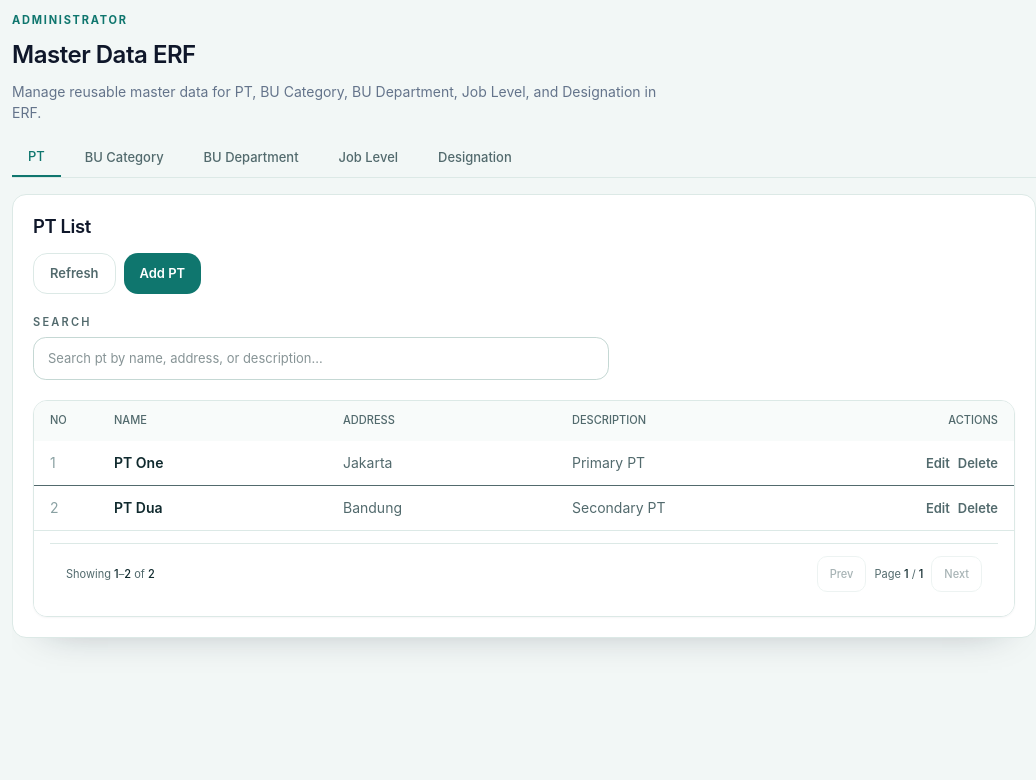
Scenario: admin pages unit › filters master data rows by the active tab search query
The image size is (1036, 780).
Type "bandung" into the search field labelled "Search". click: {"x": 321, "y": 359}
box: [33,337,609,380]
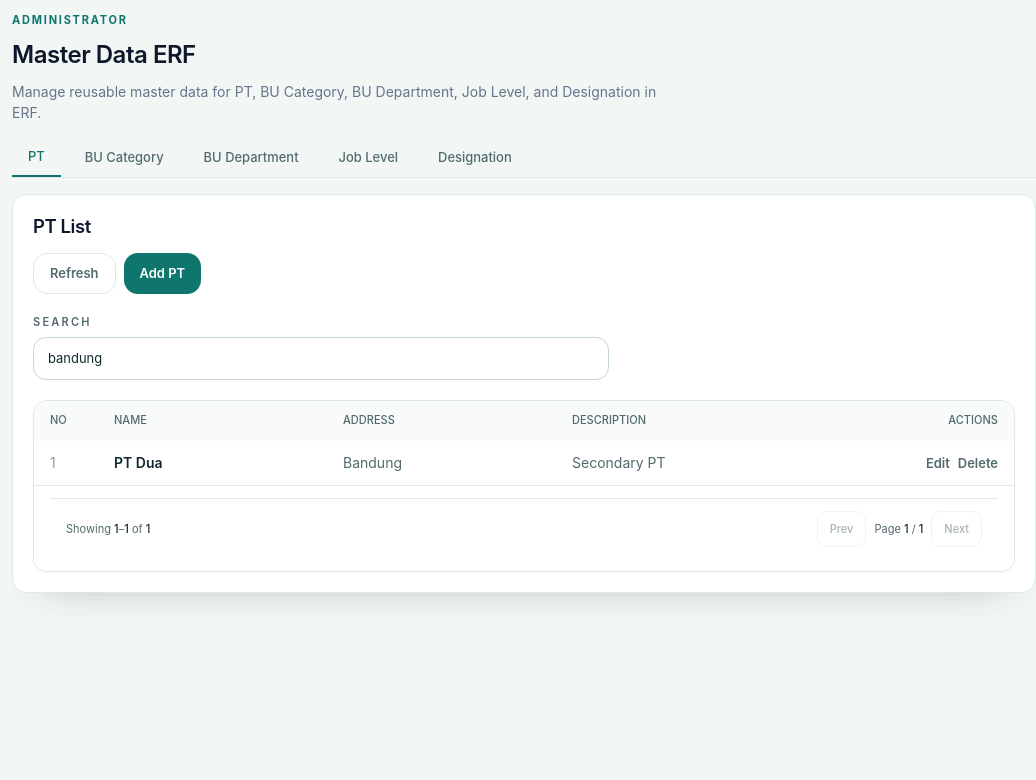
Expected: the text "PT Dua" is shown, [114,454,162,471]
Result: the text "PT One" is gone
Click the tab "BU Department". click: {"x": 251, "y": 158}
box: [188,139,315,177]
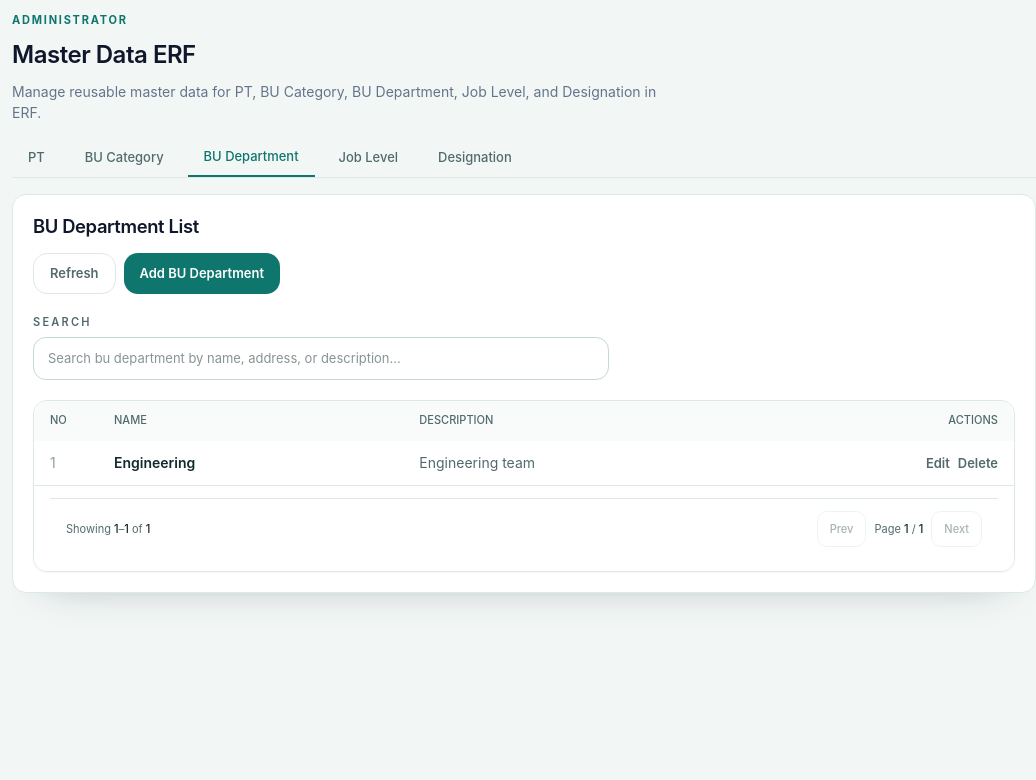
Result: the search field labelled "Search" is empty at [33,337,609,380]
Result: the text "Engineering" is shown at [114,454,195,471]
